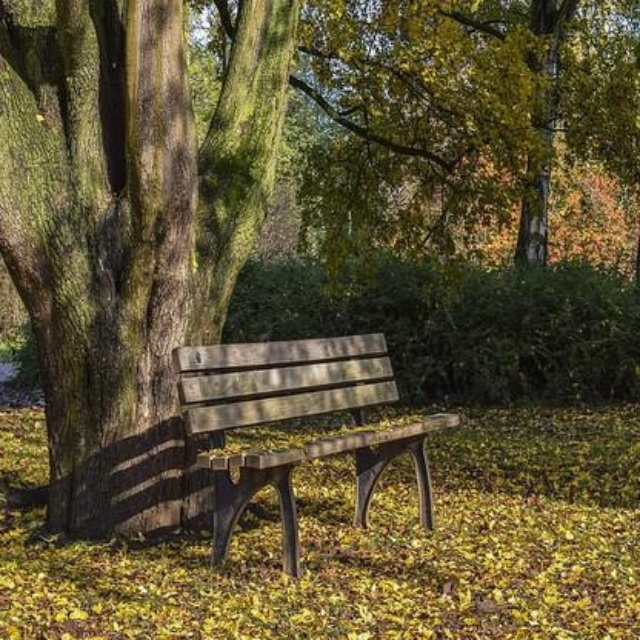obstacle: (166, 309, 440, 588)
